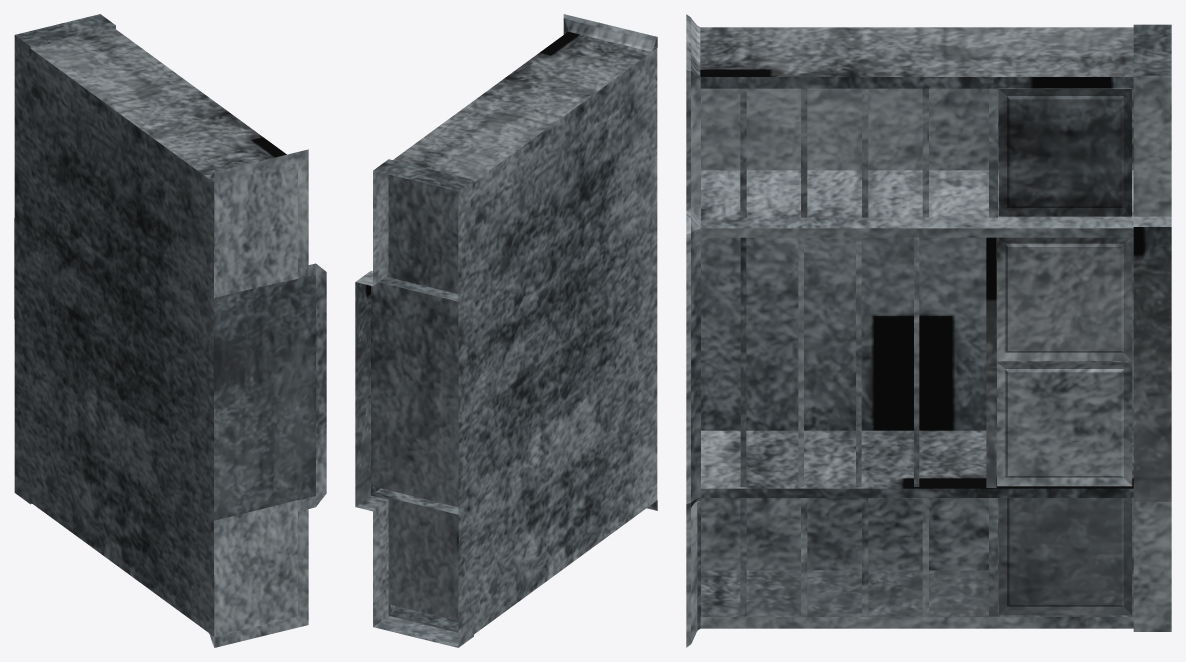
The model's file is bookshelf_11.obj.
3 renders of one model, left to right at view 1: azimuth 30°, elevation 25°; view 2: azimuth 150°, elevation 25°; view 3: azimuth 270°, elevation 25°, orthographic. The views are drawn at different scales.
Size of the model in its own units: 1.24 by 5.01 by 3.82.
